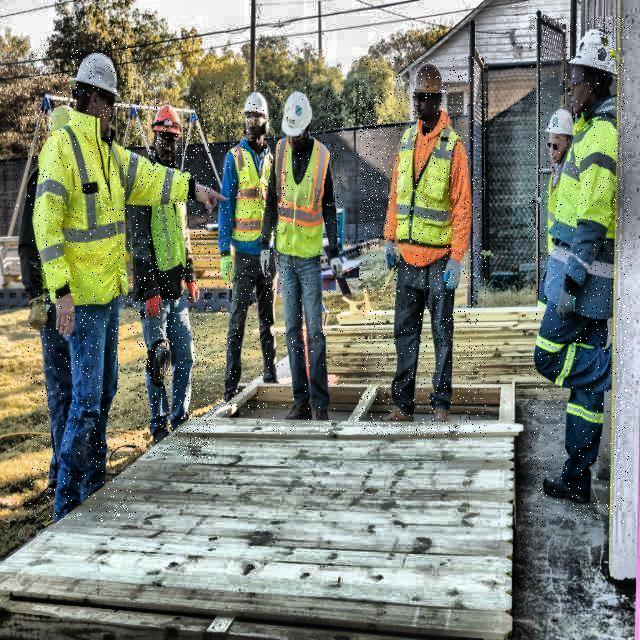safety_helmet: (70, 52, 122, 102), (569, 29, 621, 78), (403, 67, 456, 101), (281, 91, 314, 137), (240, 90, 271, 121), (153, 104, 183, 136), (546, 110, 574, 138)
safety_jacket: (34, 112, 196, 305), (541, 112, 617, 320), (397, 125, 462, 247), (274, 137, 332, 259), (226, 145, 275, 244), (150, 200, 190, 273)
